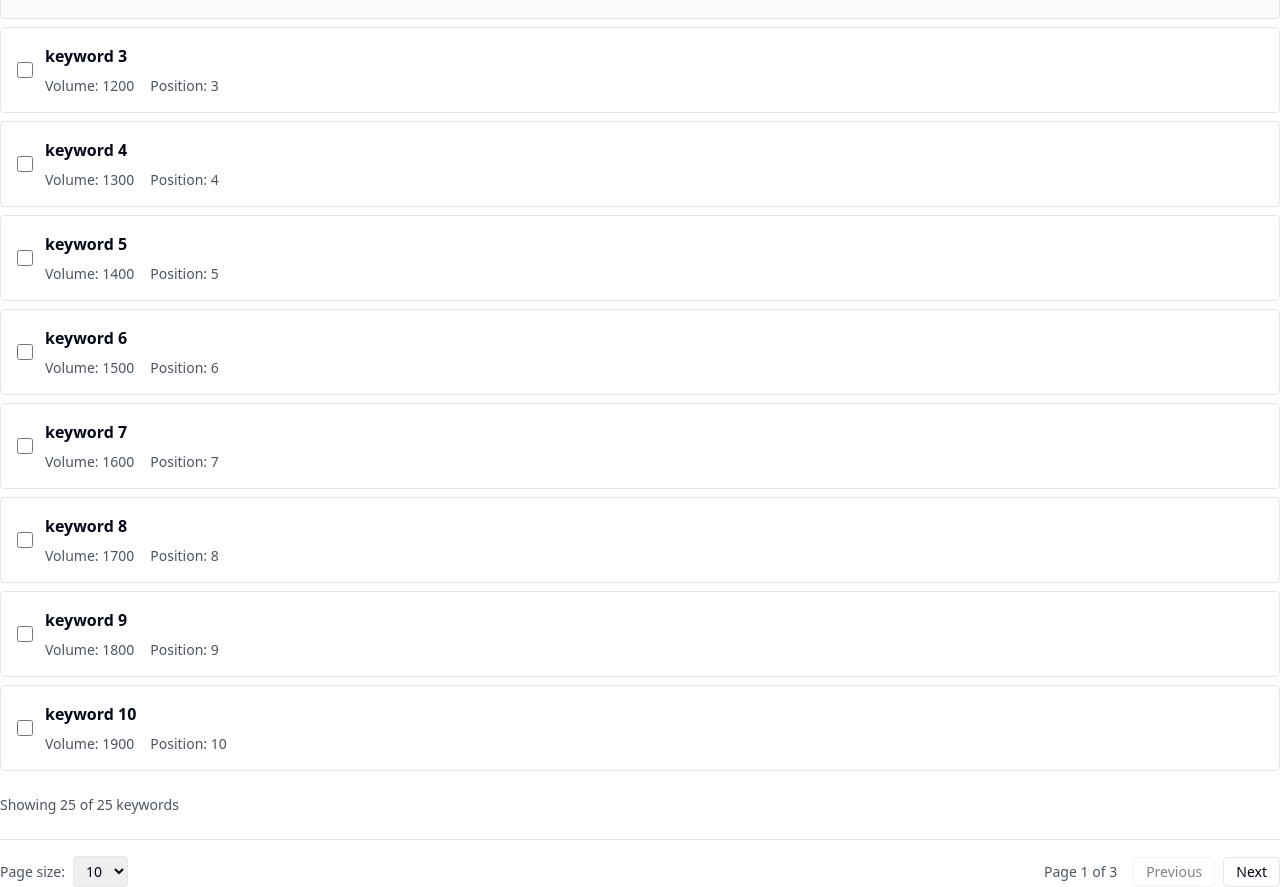
Test: KeywordDashboard Component › Pagination › should navigate to next page
(page scrolled)
Click the button with test id "next-page-button".
click(1252, 872)  # box [1223,856,1279,886]
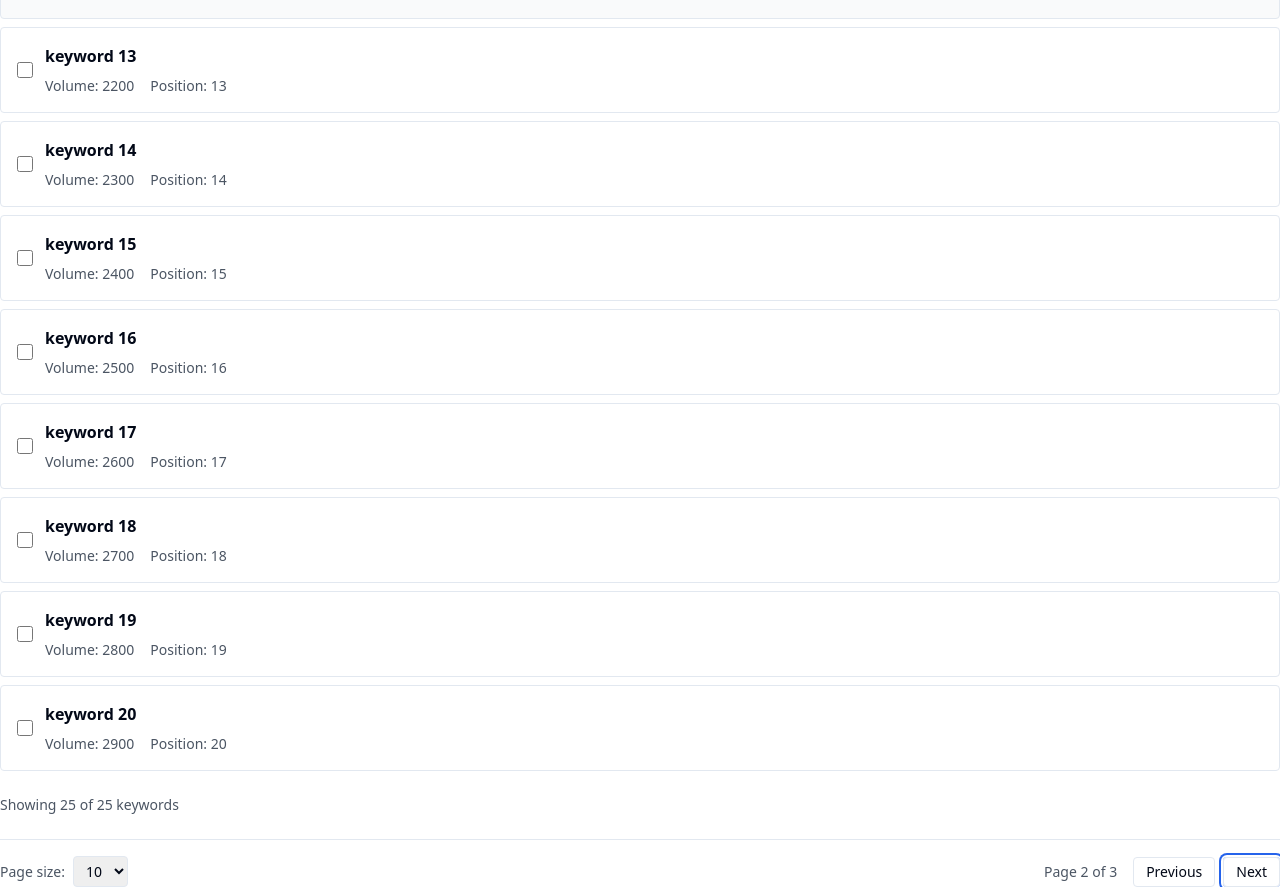
Expected: the element with test id "keyword-row-kw20" is shown, [0,685,1279,771]
Expected: the text with test id "page-info" reads "Page 2 of 3", [1044,862,1117,882]
